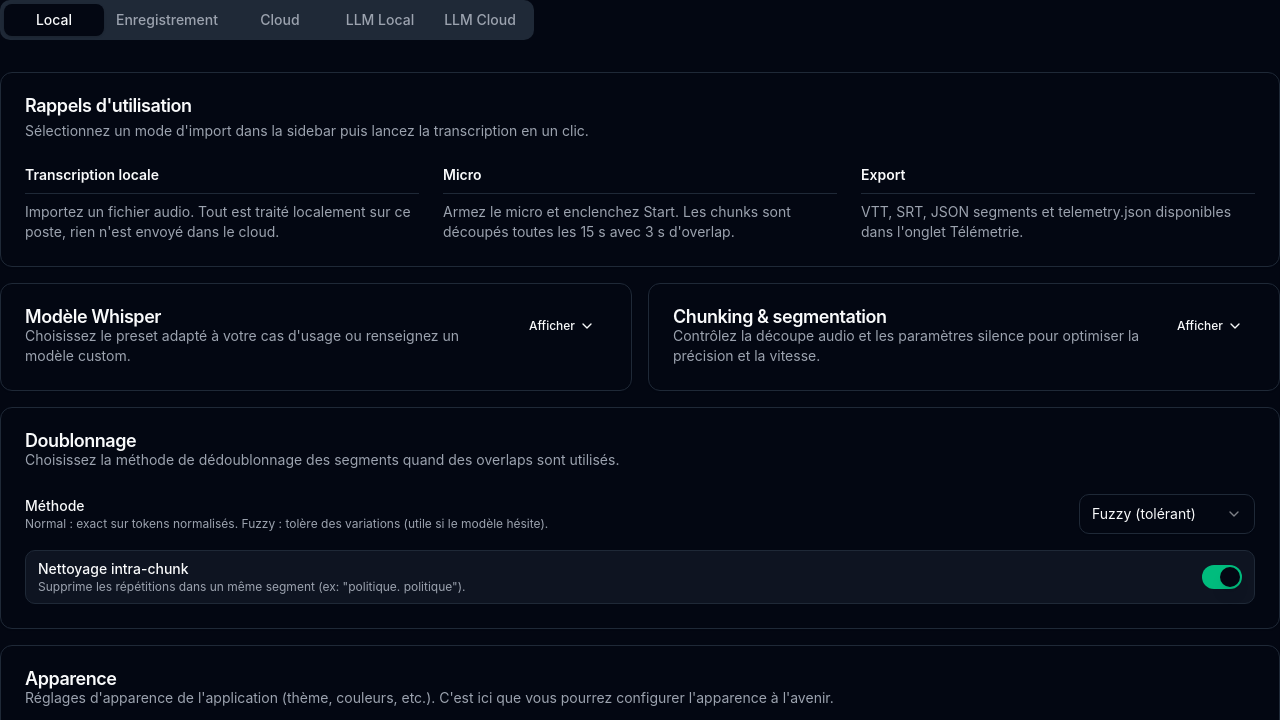
Test: SettingsPanel › shows quantization controls for built-in presets
The width and height of the screenshot is (1280, 720).
Click the button "Afficher" in the row of "Modèle Whisper".
click(562, 326)  # box [517,308,607,344]
(page scrolled)
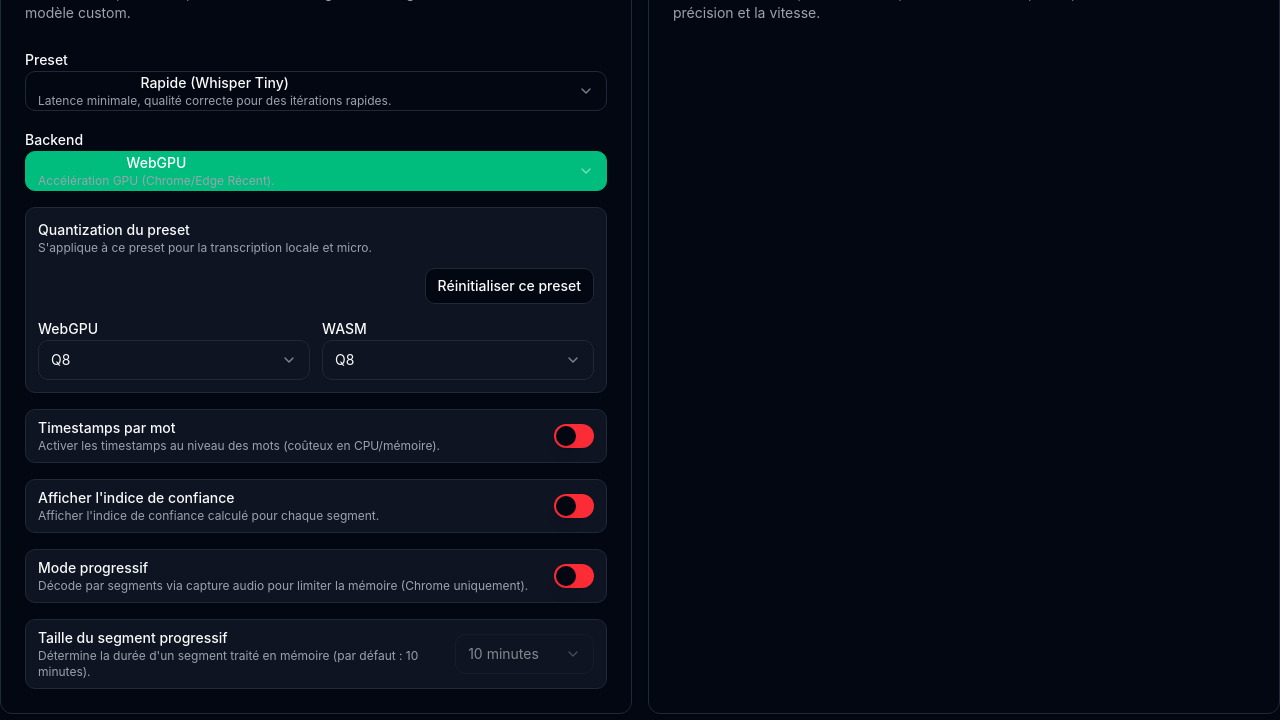
Expected: the text "Quantization du preset" is shown, [38,221,190,238]
Expected: the dropdown named "WebGPU" is shown, [38,340,310,380]
Expected: the dropdown named "WASM" is shown, [322,340,594,380]
